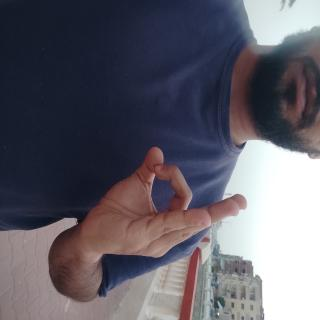Space: (108, 91, 199, 319)
